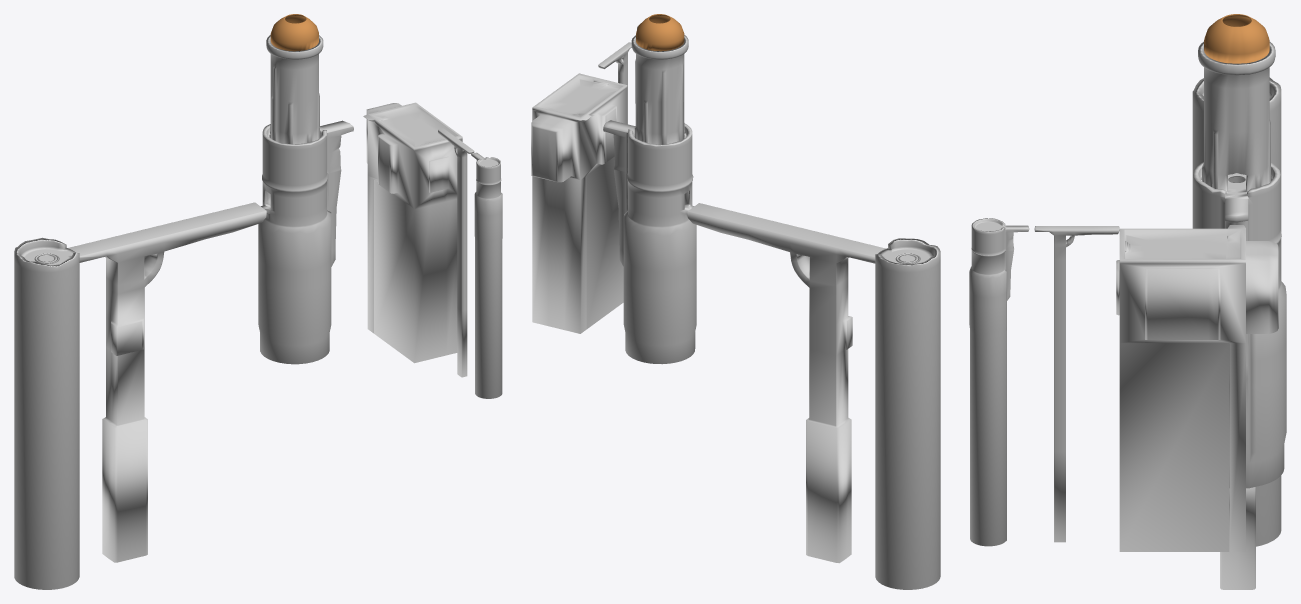
Rendered from 1stlevelAlya.fbx.
The picture shows the model from 3 angles, left to right: view 1: azimuth 30°, elevation 25°; view 2: azimuth 150°, elevation 25°; view 3: azimuth 270°, elevation 25°; orthographic projection. The views are drawn at different scales.
Parts seen in each view (by area): view 1: Cylinder.001, Cylinder.002, Cube, Cube.002, Cylinder, Cube.001; view 2: Cylinder.001, Cylinder.002, Cube, Cube.002, Cube.001; view 3: Cube, Cylinder.001, Cylinder, Cube.001, Cylinder.002, Cube.002.
Boxes of the visible parts, x1,y1,x2,y2 form: Cylinder.001: (258, 14, 353, 364); Cylinder.002: (14, 237, 79, 589); Cube: (363, 102, 462, 363); Cube.002: (68, 202, 266, 562); Cylinder: (471, 152, 502, 398); Cube.001: (438, 128, 474, 377); Cylinder.001: (603, 14, 696, 364); Cylinder.002: (875, 238, 940, 589); Cube: (531, 73, 627, 333); Cube.002: (687, 203, 885, 563); Cube.001: (598, 42, 631, 124); Cube: (1116, 225, 1278, 551); Cylinder.001: (1193, 14, 1286, 488); Cylinder: (969, 218, 1029, 546); Cube.001: (1034, 226, 1119, 542); Cylinder.002: (1192, 77, 1281, 546); Cube.002: (1220, 487, 1255, 589).
Bounding box in the file's own units: 5737 × 6762 × 2884.
